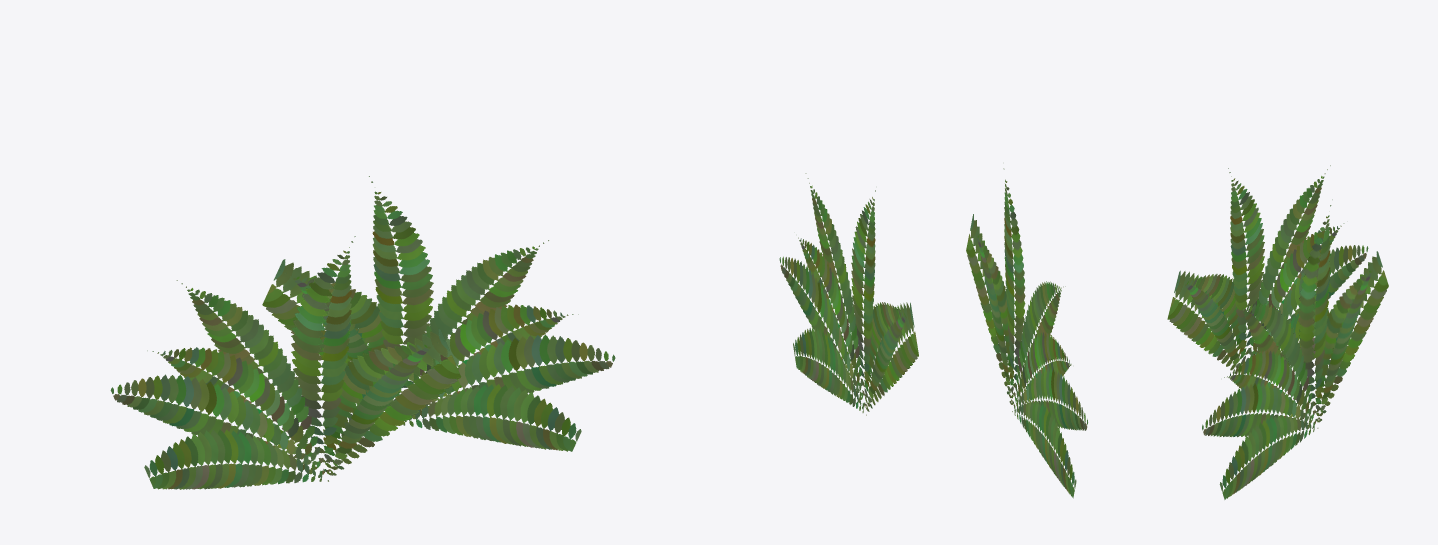
File: Fern_1_LOD2.gltf
The picture shows the model from 3 angles, left to right: view 1: azimuth 30°, elevation 25°; view 2: azimuth 150°, elevation 25°; view 3: azimuth 270°, elevation 25°; orthographic projection. The views are drawn at different scales.
Visible parts, largest first — view 1: Fern_1_LOD2; view 2: Fern_1_LOD2; view 3: Fern_1_LOD2.
Part boxes in pixels (<box>): Fern_1_LOD2: <box>110,176,615,489</box>; Fern_1_LOD2: <box>779,168,1087,498</box>; Fern_1_LOD2: <box>1167,165,1388,499</box>.
Size of the model in its own units: 1.29 by 1.06 by 0.6237.
Materials: 1 (1 with a texture image).
